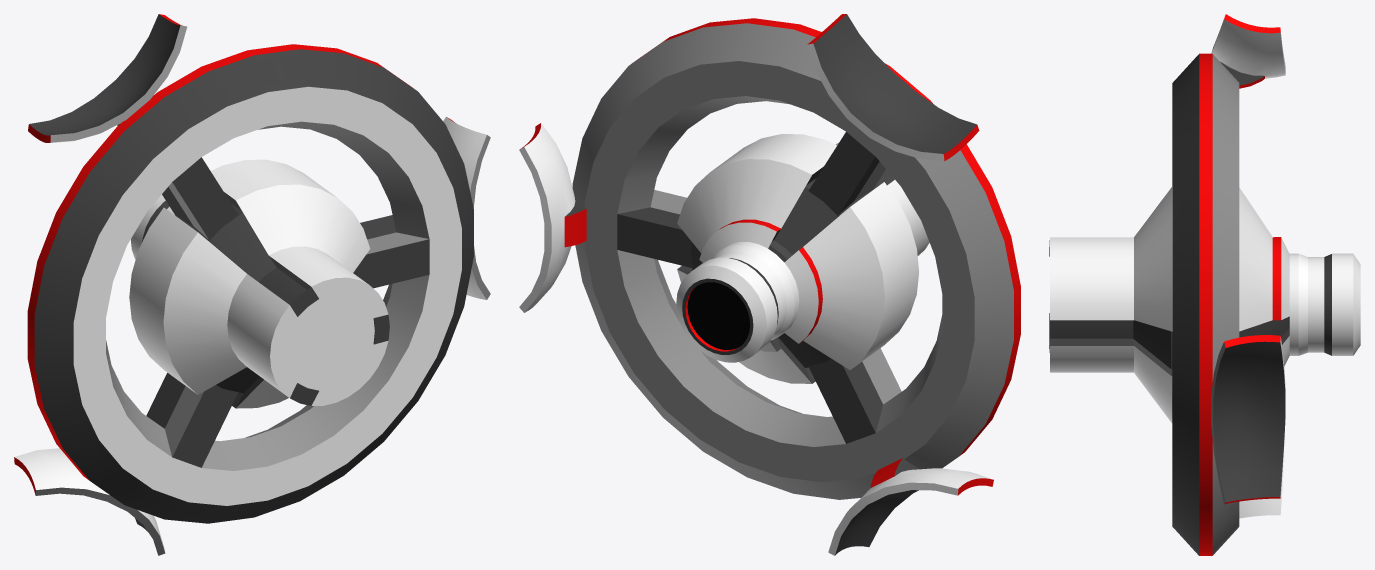
File: skyHubTurret.obj
3 renders of one model, left to right at view 1: azimuth 30°, elevation 25°; view 2: azimuth 150°, elevation 25°; view 3: azimuth 270°, elevation 25°, orthographic. The views are drawn at different scales.
Visible parts, largest first — view 1: Torus001, Cylinder002, Box003, Box004, Box002; view 2: Torus001, Cylinder002, Box003, Box002, Box004; view 3: Cylinder002, Torus001, Box002, Box003, Box004.
Part boxes in pixels (x1,y1,x2,y2): Torus001: (27, 44, 473, 523); Cylinder002: (129, 159, 389, 408); Box003: (28, 14, 187, 142); Box004: (14, 448, 165, 555); Box002: (443, 117, 490, 299); Torus001: (572, 18, 1020, 499); Cylinder002: (676, 134, 929, 383); Box003: (807, 14, 979, 161); Box002: (519, 123, 586, 312); Box004: (828, 458, 993, 555); Cylinder002: (1049, 187, 1360, 422); Torus001: (1172, 53, 1239, 555); Box002: (1211, 335, 1285, 504); Box003: (1211, 14, 1285, 88); Box004: (1239, 419, 1285, 518).
Size of the model in its own units: 3.13 by 3.34 by 1.82.
